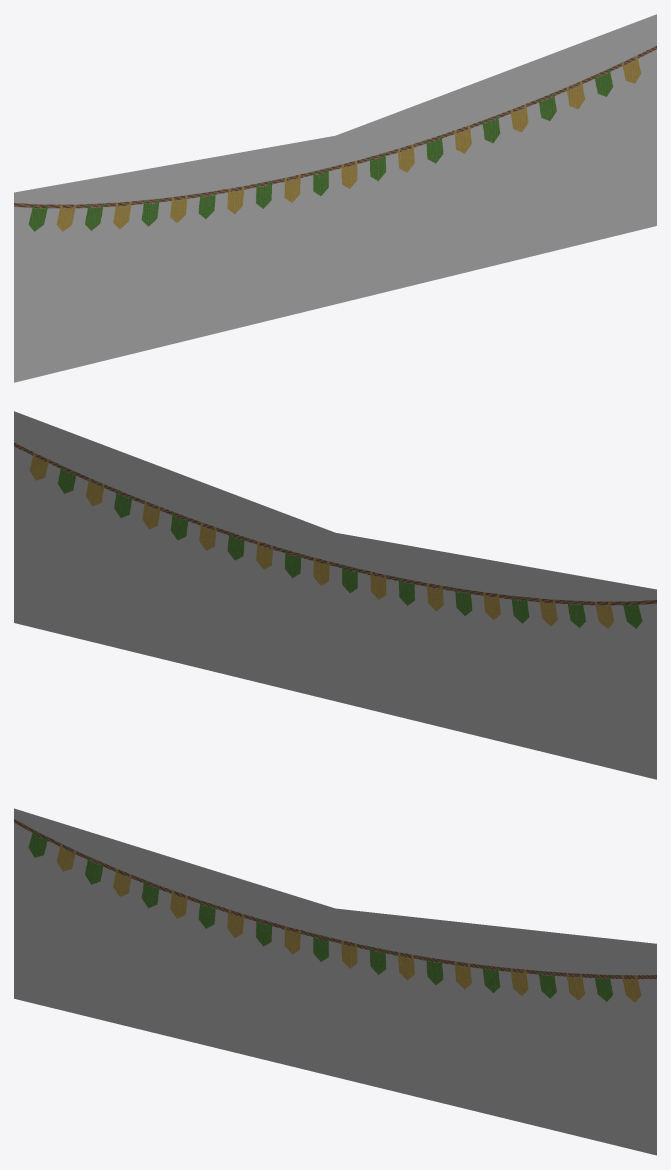
File: SM_garland001.fbx
The picture shows the model from 3 angles, top to bottom: view 1: azimuth 30°, elevation 25°; view 2: azimuth 150°, elevation 25°; view 3: azimuth 330°, elevation 25°; orthographic projection.
Visible parts, largest first — view 1: SM_garland001; view 2: SM_garland001; view 3: SM_garland001.
Part boxes in pixels (left/top/right/bottom): SM_garland001: left=14, top=14, right=656, bottom=382; SM_garland001: left=14, top=411, right=656, bottom=779; SM_garland001: left=14, top=808, right=656, bottom=1155.
Size of the model in its own units: 793 by 250 by 1.88e-05.
1 material, 1 textured.
